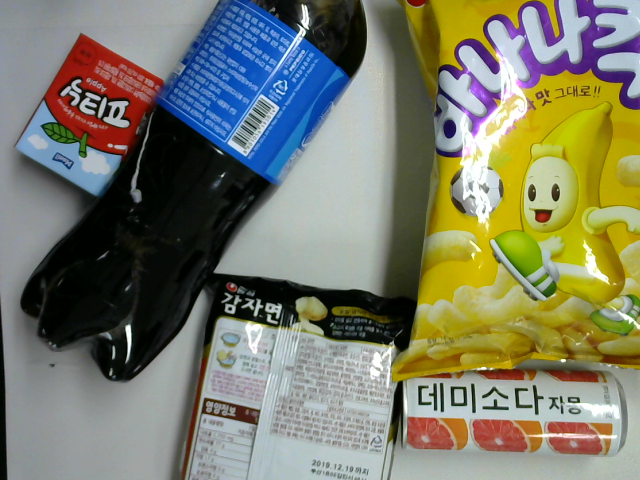Banana_Kick: (389, 1, 640, 382)
Demisoda_Grapefruit_Can_250ml: (398, 368, 630, 459)
Pepsi_Cola_1.5L: (20, 1, 368, 384)
Picnic_Apple: (16, 34, 167, 200)
Potato: (175, 271, 419, 480)
